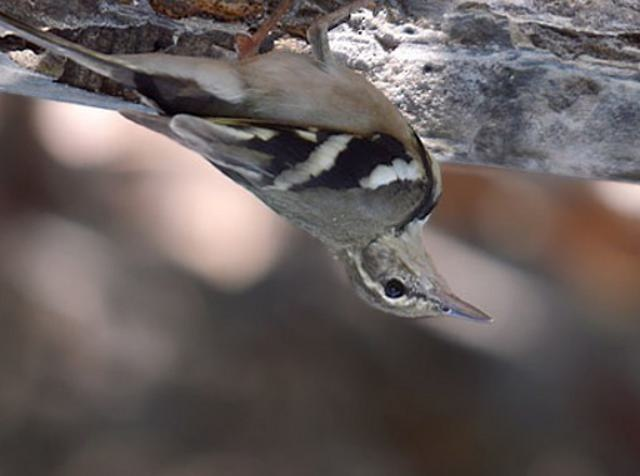wagtail: (3, 1, 521, 349)
